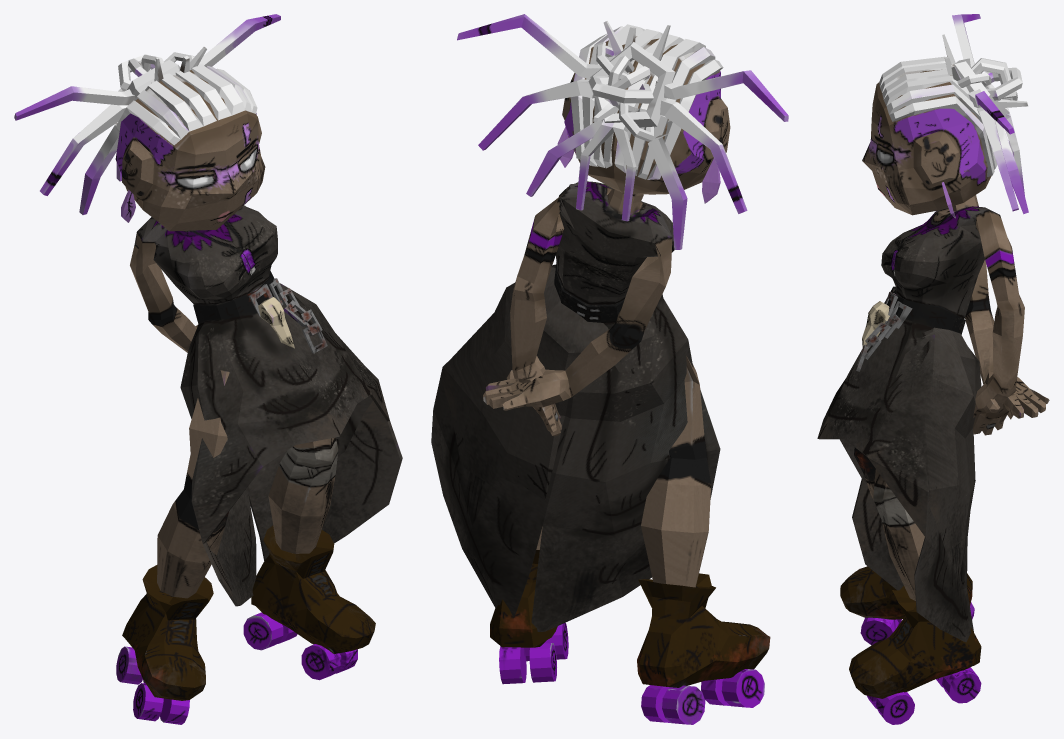
Rendered from bruja_000031.obj.
3 views of the same model, side by side, from view 1: azimuth 30°, elevation 25°; view 2: azimuth 150°, elevation 25°; view 3: azimuth 270°, elevation 25° (orthographic). The views are drawn at different scales.
Visible parts, largest first — view 1: Bruja_Plane.001; view 2: Bruja_Plane.001; view 3: Bruja_Plane.001.
Part boxes in pixels (x1,y1,x2,y2): Bruja_Plane.001: (14,14,402,724); Bruja_Plane.001: (431,14,788,724); Bruja_Plane.001: (817,14,1049,724).
Size of the model in its own units: 9.33 by 15.99 by 5.44.
